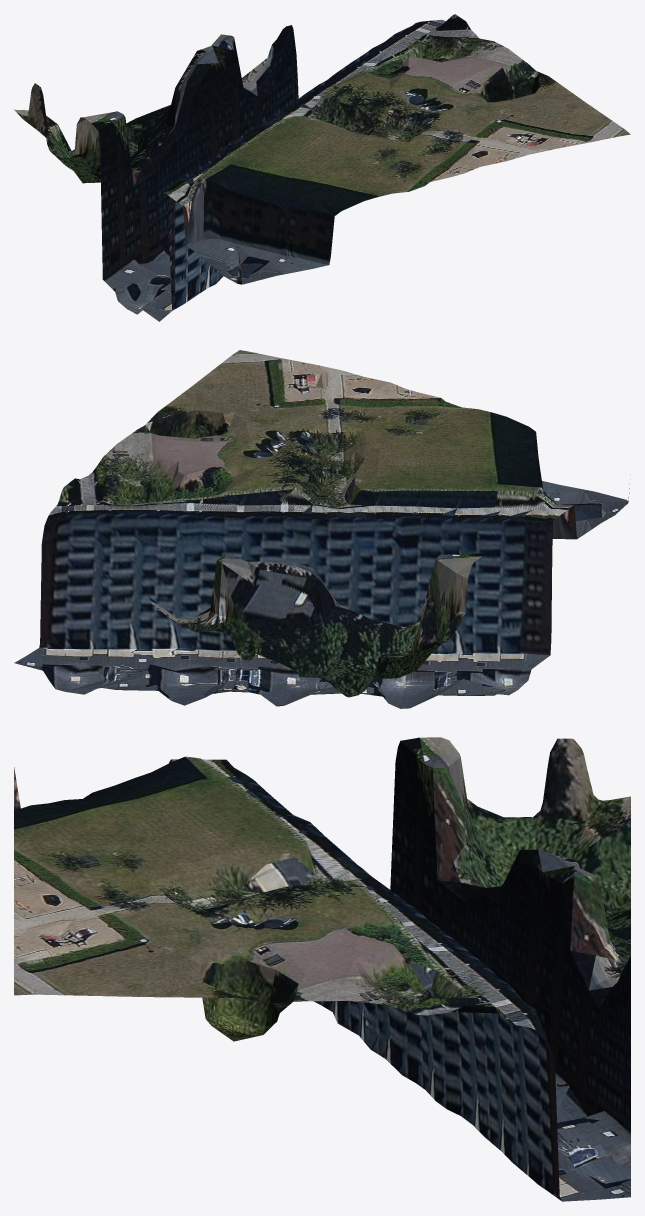
Rendered from map_15_8177_13788.dae.
3 views of the same model, one above another, from view 1: azimuth 30°, elevation 25°; view 2: azimuth 150°, elevation 25°; view 3: azimuth 270°, elevation 25° (orthographic). The views are drawn at different scales.
Parts seen in each view (by area): view 1: Ter0; view 2: Ter0; view 3: Ter0.
Part boxes in pixels (x1=…): Ter0: x1=14, y1=14, x2=630, y2=321; Ter0: x1=14, y1=350, x2=630, y2=708; Ter0: x1=14, y1=737, x2=630, y2=1201.
Bounding box in the file's own units: 63.87 × 63.88 × 26.69.
4 materials, 4 textured.
